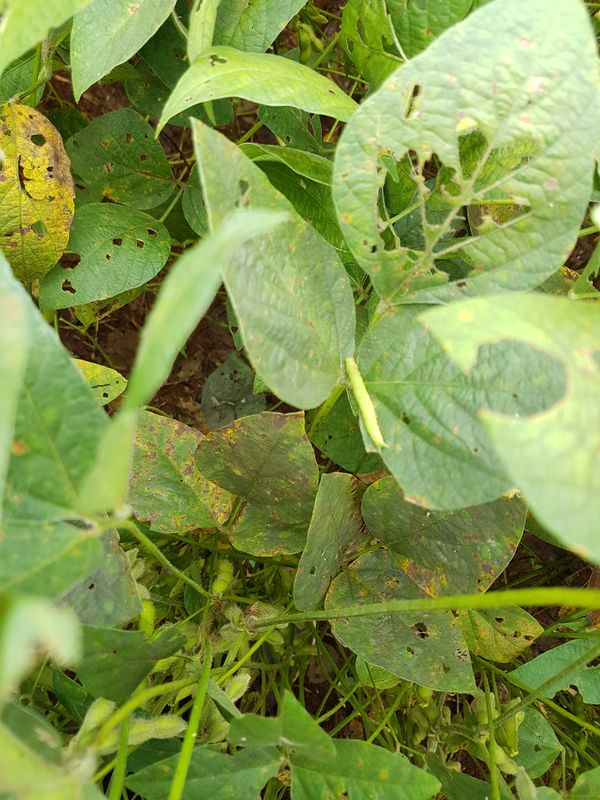Anticarsia_gemmatalis: (322, 349, 404, 460)
Euschistus_heros_adulto: (238, 598, 265, 621)
